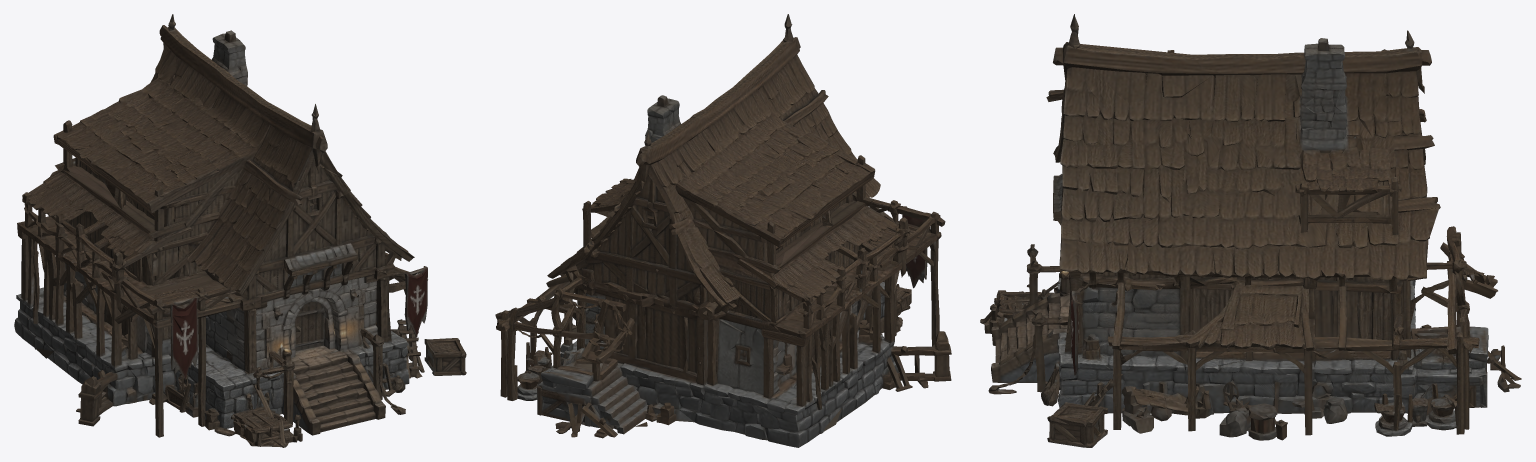
Rendered from Meshy_AI_Town_Hall_Tier_1_0913015508_texture.glb.
The picture shows the model from 3 angles, left to right: view 1: azimuth 30°, elevation 25°; view 2: azimuth 150°, elevation 25°; view 3: azimuth 270°, elevation 25°; orthographic projection. The views are drawn at different scales.
Visible parts, largest first — view 1: output_unwrapped; view 2: output_unwrapped; view 3: output_unwrapped.
Part boxes in pixels (box(x1,y1,x2,y2)): output_unwrapped: box(14, 14, 466, 447); output_unwrapped: box(495, 14, 951, 447); output_unwrapped: box(980, 14, 1521, 447).
Bounding box in the file's own units: 1.67 × 1.35 × 1.9.
1 material, 1 textured.
